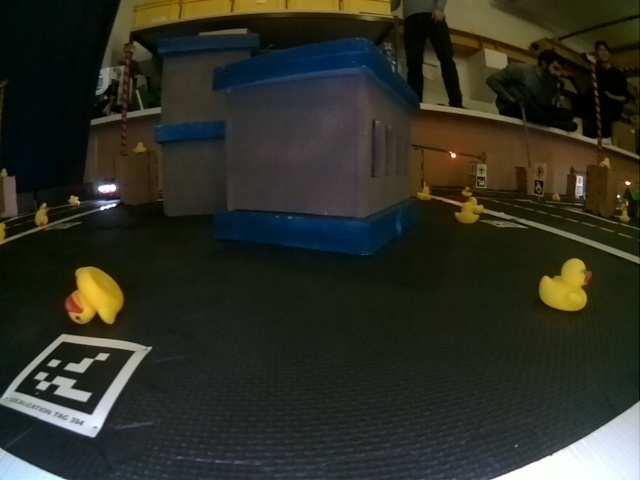Duckie: (65, 267, 124, 325), (541, 260, 589, 310), (456, 203, 478, 221), (472, 197, 484, 214), (35, 209, 47, 225), (418, 187, 432, 199), (133, 143, 146, 152), (70, 196, 79, 205), (463, 187, 472, 196), (620, 211, 628, 221), (601, 157, 609, 166), (552, 192, 561, 199)
Duckiebot: (97, 179, 116, 197)
Intersection sign: (477, 165, 487, 176), (536, 166, 545, 176)
QR code: (4, 335, 151, 436), (482, 219, 527, 228), (534, 181, 543, 195), (478, 177, 486, 186)
